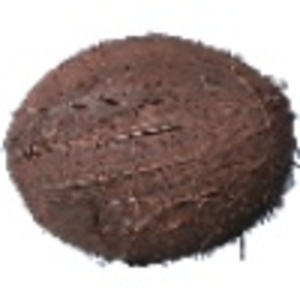coco: (5, 34, 300, 268)
